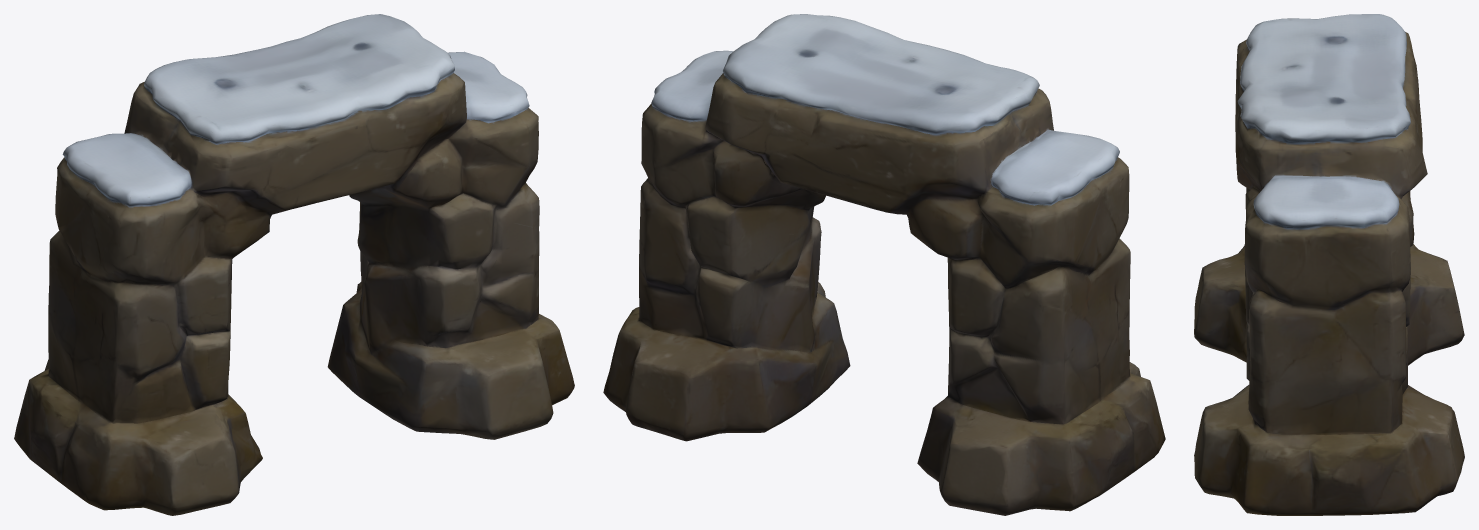
The model's file is wind_arch_t1.glb.
3 views of the same model, side by side, from view 1: azimuth 30°, elevation 25°; view 2: azimuth 150°, elevation 25°; view 3: azimuth 270°, elevation 25° (orthographic). The views are drawn at different scales.
Visible parts, largest first — view 1: geometry_0; view 2: geometry_0; view 3: geometry_0.
Boxes of the visible parts, left/top/right/bottom form: geometry_0: left=14, top=14, right=574, bottom=515; geometry_0: left=603, top=14, right=1165, bottom=515; geometry_0: left=1194, top=14, right=1464, bottom=515.
Size of the model in its own units: 0.9814 by 0.6861 by 0.4922.
Materials: 1 (1 with a texture image).
